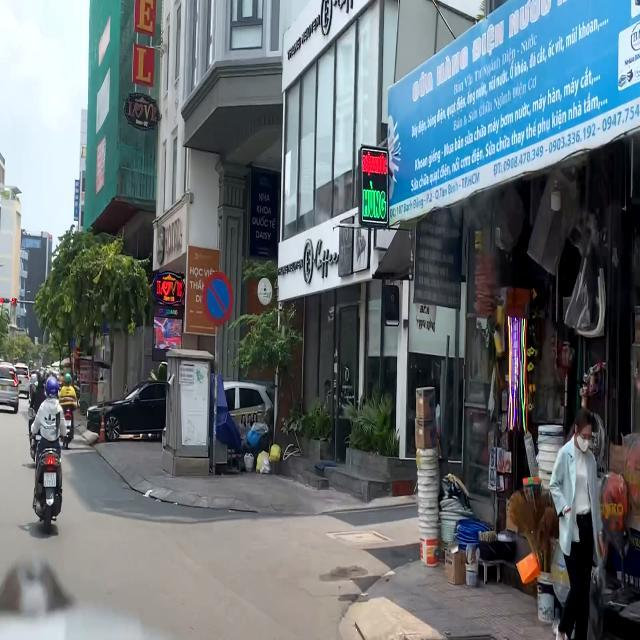Cam do xe: (203, 271, 234, 326)
